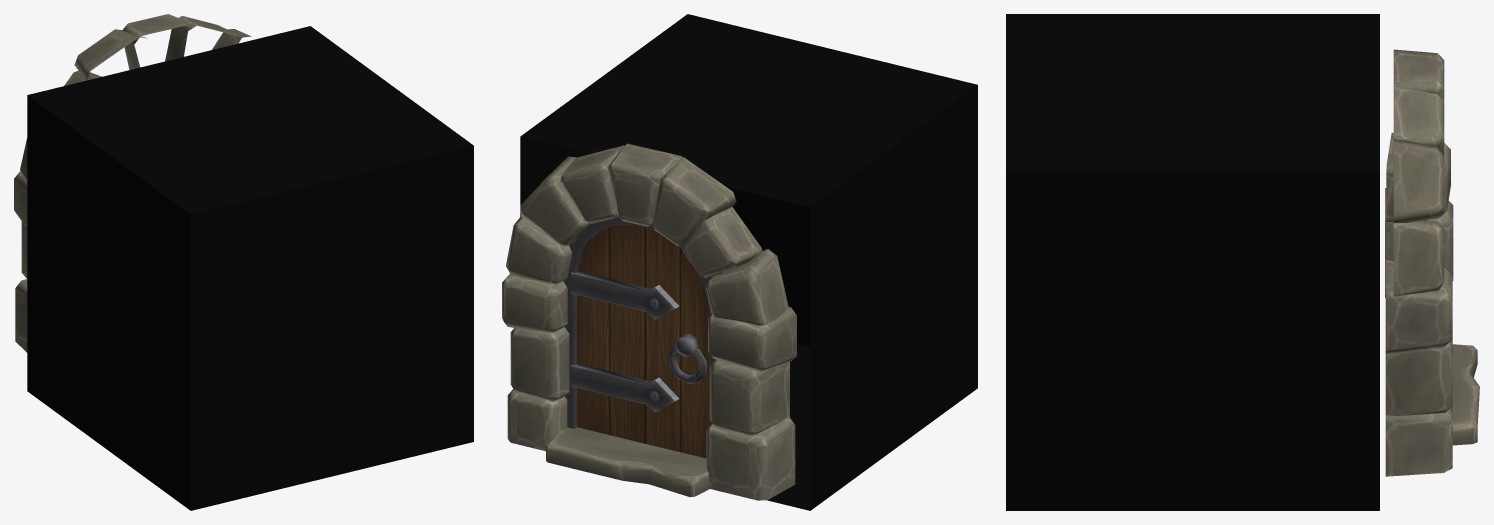
File: porta_2.glb
The picture shows the model from 3 angles, left to right: view 1: azimuth 30°, elevation 25°; view 2: azimuth 150°, elevation 25°; view 3: azimuth 270°, elevation 25°; orthographic projection. The views are drawn at different scales.
Parts seen in each view (by area): view 1: Cube, doorway; view 2: Cube, doorway, door; view 3: Cube, doorway.
Part boxes in pixels (x1,y1,x2,y2): Cube: (27,26,473,510); doorway: (14,14,251,352); Cube: (520,14,977,510); doorway: (502,143,796,500); door: (571,224,709,458); Cube: (1006,14,1379,510); doorway: (1385,49,1479,476).
Bounding box in the file's own units: 1.76 × 1.91 × 2.23.
Materials: 3 (2 with a texture image).
